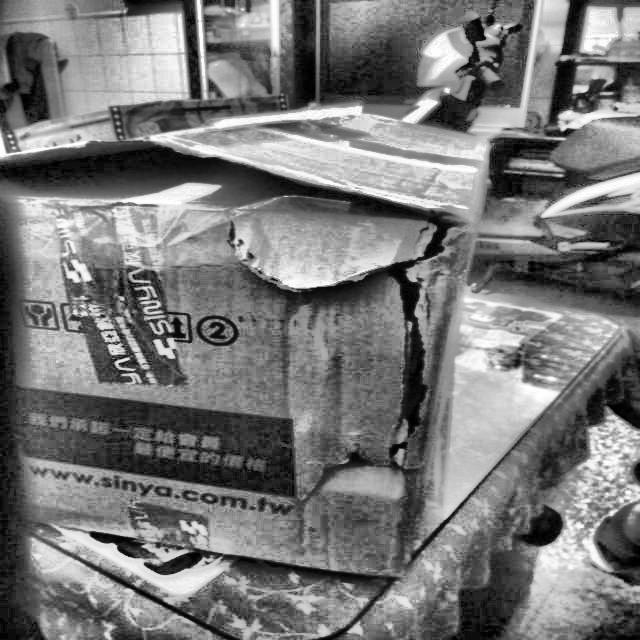box: (1, 101, 493, 577)
hole: (369, 219, 457, 475)
